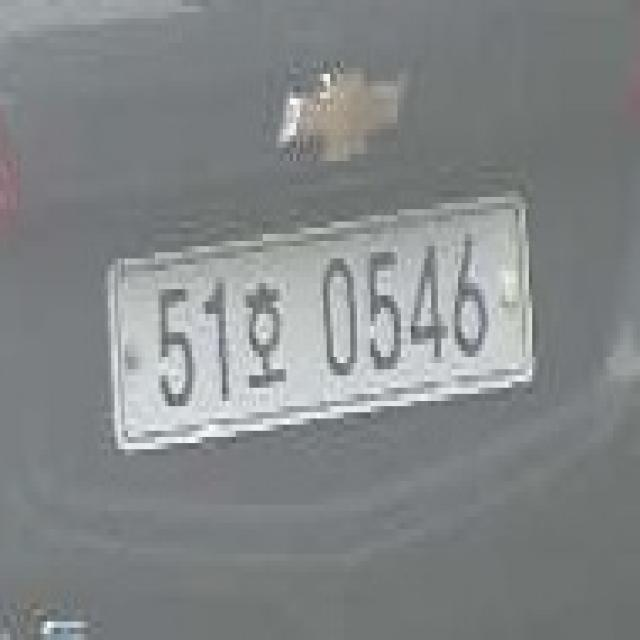0: (316, 249, 361, 391)
1: (202, 269, 236, 406)
4: (408, 236, 449, 380)
5: (154, 279, 196, 412), (365, 242, 403, 380)
6: (450, 231, 490, 368)
ho: (242, 272, 286, 406)
license_plate: (97, 158, 543, 484)
